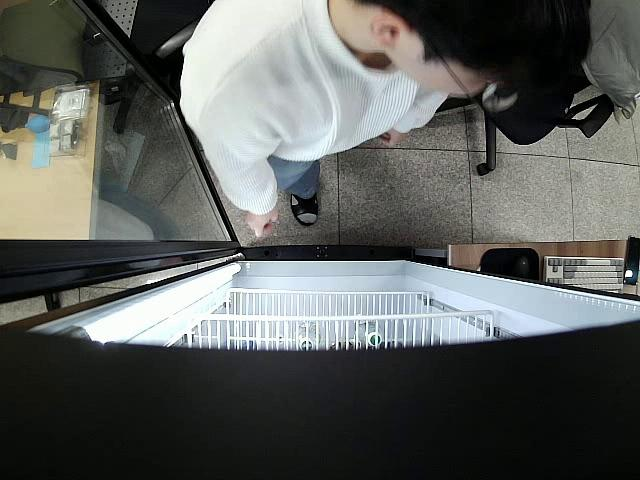00_hand: (243, 204, 281, 239)
